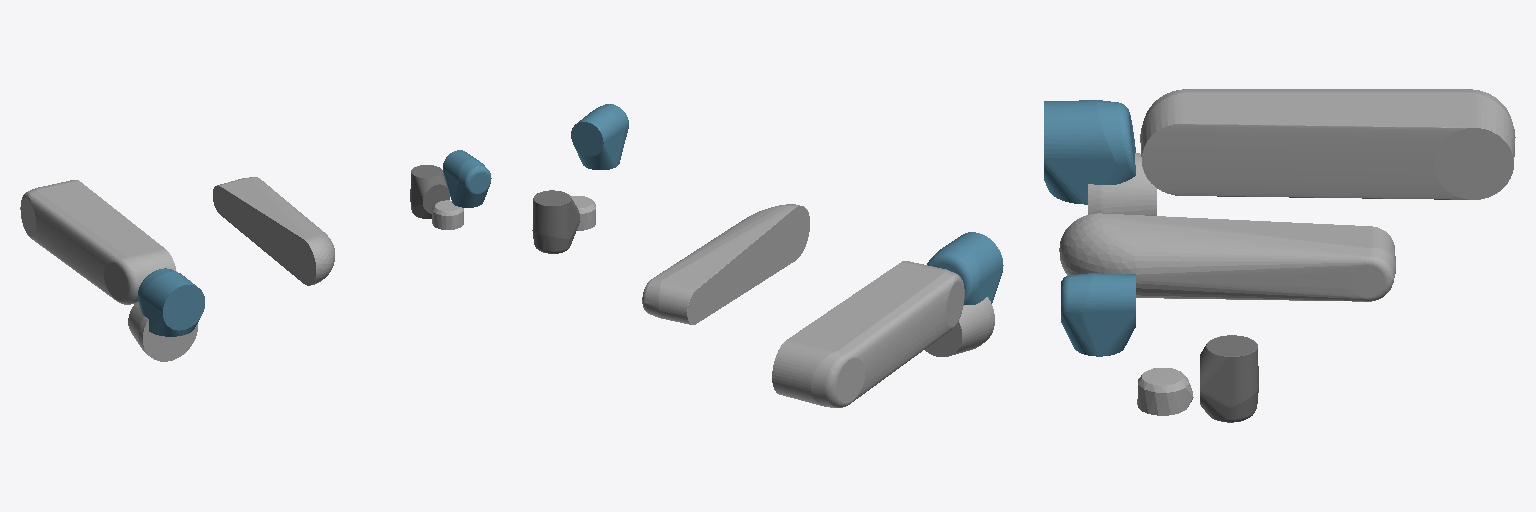
robot.urdf — ur5:
<?xml version="1.0" ?>
<robot name="ur5" xmlns:xacro="http://ros.org/wiki/xacro">
  <link name="base_link">
    <visual>
      <geometry>
        <mesh filename="meshes/visual/base.obj"/>
      </geometry>
      <material name="LightGrey">
        <color rgba="0.7 0.7 0.7 1.0"/>
      </material>
    </visual>
    <collision>
      <geometry>
        <mesh filename="meshes/collision/base.stl"/>
      </geometry>
    </collision>
    <inertial>
      <mass value="4.0"/>
      <origin rpy="0 0 0" xyz="0.0 0.0 0.0"/>
      <inertia ixx="0.00443333156" ixy="0.0" ixz="0.0" iyy="0.00443333156" iyz="0.0" izz="0.0072"/>
    </inertial>
  </link>

  <joint name="shoulder_pan_joint" type="revolute">
    <parent link="base_link"/>
    <child link="shoulder_link"/>
    <origin rpy="0.0 0.0 0.0" xyz="0.0 0.0 0.089159"/>
    <axis xyz="0 0 1"/>
    <limit effort="150.0" lower="-3.14159265359" upper="3.14159265359" velocity="3.15"/>
    <dynamics damping="0.1" friction="0.0"/>
  </joint>
  <link name="shoulder_link">
    <visual>
      <geometry>
        <mesh filename="meshes/visual/shoulder.obj"/>
      </geometry>
      <material name="UR-Blue">
        <color rgba="0.376 0.576 0.674 1.0"/>
      </material>
    </visual>
    <collision>
      <geometry>
        <mesh filename="meshes/collision/shoulder.stl"/>
      </geometry>
    </collision>
    <inertial>
      <mass value="3.7"/>
      <origin rpy="0 0 0" xyz="0.0 0.0 0.0"/>
      <inertia ixx="0.010267495893" ixy="0.0" ixz="0.0" iyy="0.010267495893" iyz="0.0" izz="0.00666"/>
    </inertial>
  </link>
  <joint name="shoulder_lift_joint" type="revolute">
    <parent link="shoulder_link"/>
    <child link="upper_arm_link"/>
    <origin rpy="0.0 1.57079632679 0.0" xyz="0.0 0.13585 0.0"/>
    <axis xyz="0 1 0"/>
    <limit effort="150.0" lower="-3.14159265359" upper="3.14159265359" velocity="3.15"/>
    <dynamics damping="0.1" friction="0.0"/>
  </joint>
  <link name="upper_arm_link">
    <visual>
      <geometry>
        <mesh filename="meshes/visual/upperarm.obj"/>
      </geometry>
      <material name="LightGrey">
        <color rgba="0.7 0.7 0.7 1.0"/>
      </material>
    </visual>
    <collision>
      <geometry>
        <mesh filename="meshes/collision/upperarm.stl"/>
      </geometry>
    </collision>
    <inertial>
      <mass value="8.393"/>
      <origin rpy="0 0 0" xyz="0.0 0.0 0.28"/>
      <inertia ixx="0.22689067591" ixy="0.0" ixz="0.0" iyy="0.22689067591" iyz="0.0" izz="0.0151074"/>
    </inertial>
  </link>
  <joint name="elbow_joint" type="revolute">
    <parent link="upper_arm_link"/>
    <child link="forearm_link"/>
    <origin rpy="0.0 0.0 0.0" xyz="0.0 -0.1197 0.425"/>
    <axis xyz="0 1 0"/>
    <limit effort="150.0" lower="-3.14159265359" upper="3.14159265359" velocity="3.15"/>
    <dynamics damping="0.1" friction="0.0"/>
  </joint>
  <link name="forearm_link">
    <visual>
      <geometry>
        <mesh filename="meshes/visual/forearm.obj"/>
      </geometry>
      <material name="LightGrey">
        <color rgba="0.7 0.7 0.7 1.0"/>
      </material>
    </visual>
    <collision>
      <geometry>
        <mesh filename="meshes/collision/forearm.stl"/>
      </geometry>
    </collision>
    <inertial>
      <mass value="2.275"/>
      <origin rpy="0 0 0" xyz="0.0 0.0 0.25"/>
      <inertia ixx="0.049443313556" ixy="0.0" ixz="0.0" iyy="0.049443313556" iyz="0.0" izz="0.004095"/>
    </inertial>
  </link>
  <joint name="wrist_1_joint" type="revolute">
    <parent link="forearm_link"/>
    <child link="wrist_1_link"/>
    <origin rpy="0.0 1.57079632679 0.0" xyz="0.0 0.0 0.39225"/>
    <axis xyz="0 1 0"/>
    <limit effort="28.0" lower="-3.14159265359" upper="3.14159265359" velocity="3.2"/>
    <dynamics damping="0.1" friction="0.0"/>
  </joint>
  <link name="wrist_1_link">
    <visual>
      <geometry>
        <mesh filename="meshes/visual/wrist1.obj"/>
      </geometry>
      <material name="UR-Blue">
        <color rgba="0.376 0.576 0.674 1.0"/>
      </material>
    </visual>
    <collision>
      <geometry>
        <mesh filename="meshes/collision/wrist1.stl"/>
      </geometry>
    </collision>
    <inertial>
      <mass value="1.219"/>
      <origin rpy="0 0 0" xyz="0.0 0.0 0.0"/>
      <inertia ixx="0.111172755531" ixy="0.0" ixz="0.0" iyy="0.111172755531" iyz="0.0" izz="0.21942"/>
    </inertial>
  </link>
  <joint name="wrist_2_joint" type="revolute">
    <parent link="wrist_1_link"/>
    <child link="wrist_2_link"/>
    <origin rpy="0.0 0.0 0.0" xyz="0.0 0.093 0.0"/>
    <axis xyz="0 0 1"/>
    <limit effort="28.0" lower="-3.14159265359" upper="3.14159265359" velocity="3.2"/>
    <dynamics damping="0.1" friction="0.0"/>
  </joint>
  <link name="wrist_2_link">
    <visual>
      <geometry>
        <mesh filename="meshes/visual/wrist2.obj"/>
      </geometry>
      <material name="DarkGray">
        <color rgba="0.5 0.5 0.5 1.0"/>
      </material>
    </visual>
    <collision>
      <geometry>
        <mesh filename="meshes/collision/wrist2.stl"/>
      </geometry>
    </collision>
    <inertial>
      <mass value="1.219"/>
      <origin rpy="0 0 0" xyz="0.0 0.0 0.0"/>
      <inertia ixx="0.111172755531" ixy="0.0" ixz="0.0" iyy="0.111172755531" iyz="0.0" izz="0.21942"/>
    </inertial>
  </link>
  <joint name="wrist_3_joint" type="revolute">
    <parent link="wrist_2_link"/>
    <child link="wrist_3_link"/>
    <origin rpy="0.0 0.0 0.0" xyz="0.0 0.0 0.09465"/>
    <axis xyz="0 1 0"/>
    <limit effort="28.0" lower="-3.14159265359" upper="3.14159265359" velocity="3.2"/>
    <dynamics damping="0.1" friction="0.0"/>
  </joint>
  <link name="wrist_3_link">
    <visual>
      <geometry>
        <mesh filename="meshes/visual/wrist3.obj"/>
      </geometry>
      <material name="LightGrey">
        <color rgba="0.7 0.7 0.7 1.0"/>
      </material>
    </visual>
    <collision>
      <geometry>
        <mesh filename="meshes/collision/wrist3.stl"/>
      </geometry>
    </collision>
    <inertial>
      <mass value="0.1879"/>
      <origin rpy="0 0 0" xyz="0.0 0.0 0.0"/>
      <inertia ixx="0.0171364731454" ixy="0.0" ixz="0.0" iyy="0.0171364731454" iyz="0.0" izz="0.033822"/>
    </inertial>
  </link>
  <joint name="ee_fixed_joint" type="fixed">
    <parent link="wrist_3_link"/>
    <child link="ee_link"/>
    <origin rpy="0.0 0.0 1.57079632679" xyz="0.0 0.0823 0.0"/>
    <dynamics damping="0.1" friction="0.0"/>
  </joint>
  <link name="ee_link">
    <collision>
      <geometry>
        <box size="0.01 0.01 0.01"/>
      </geometry>
      <origin rpy="0 0 0" xyz="-0.01 0 0"/>
    </collision>
  </link>
</robot>

--- Render facts (derived) ---
3 views of the same robot in one strip: view 1: azimuth 30°, elevation 25°; view 2: azimuth 150°, elevation 25°; view 3: azimuth 270°, elevation 25° (orthographic).
Model ur5 with 8 links and 7 joints (6 revolute, 1 fixed), rooted at base_link, posed all joints at 0.
Visible links, largest first — view 1: upper_arm_link, forearm_link, shoulder_link, wrist_1_link, base_link, wrist_2_link, wrist_3_link; view 2: upper_arm_link, forearm_link, shoulder_link, wrist_1_link, wrist_2_link, base_link, wrist_3_link; view 3: upper_arm_link, forearm_link, shoulder_link, wrist_1_link, wrist_2_link, base_link, wrist_3_link.
Link boxes in pixels (<box>): upper_arm_link: <box>20,180,176,304</box>; forearm_link: <box>213,177,334,285</box>; shoulder_link: <box>138,268,204,336</box>; wrist_1_link: <box>443,150,491,207</box>; base_link: <box>128,302,197,361</box>; wrist_2_link: <box>410,165,449,218</box>; wrist_3_link: <box>432,200,463,229</box>; upper_arm_link: <box>772,261,964,407</box>; forearm_link: <box>642,204,809,324</box>; shoulder_link: <box>927,232,1003,304</box>; wrist_1_link: <box>571,104,628,169</box>; wrist_2_link: <box>532,190,579,253</box>; base_link: <box>925,297,994,356</box>; wrist_3_link: <box>571,196,595,230</box>; upper_arm_link: <box>1140,89,1515,199</box>; forearm_link: <box>1059,213,1395,301</box>; shoulder_link: <box>1044,100,1135,204</box>; wrist_1_link: <box>1061,273,1135,356</box>; wrist_2_link: <box>1200,335,1258,422</box>; base_link: <box>1088,153,1156,215</box>; wrist_3_link: <box>1137,368,1193,415</box>.
Bounding box of the posed robot: 0.9321 × 0.6843 × 0.3303 m (x, y, z).
Meshes: 7 distinct files referenced, 7 mesh visuals loaded (7 OBJ).